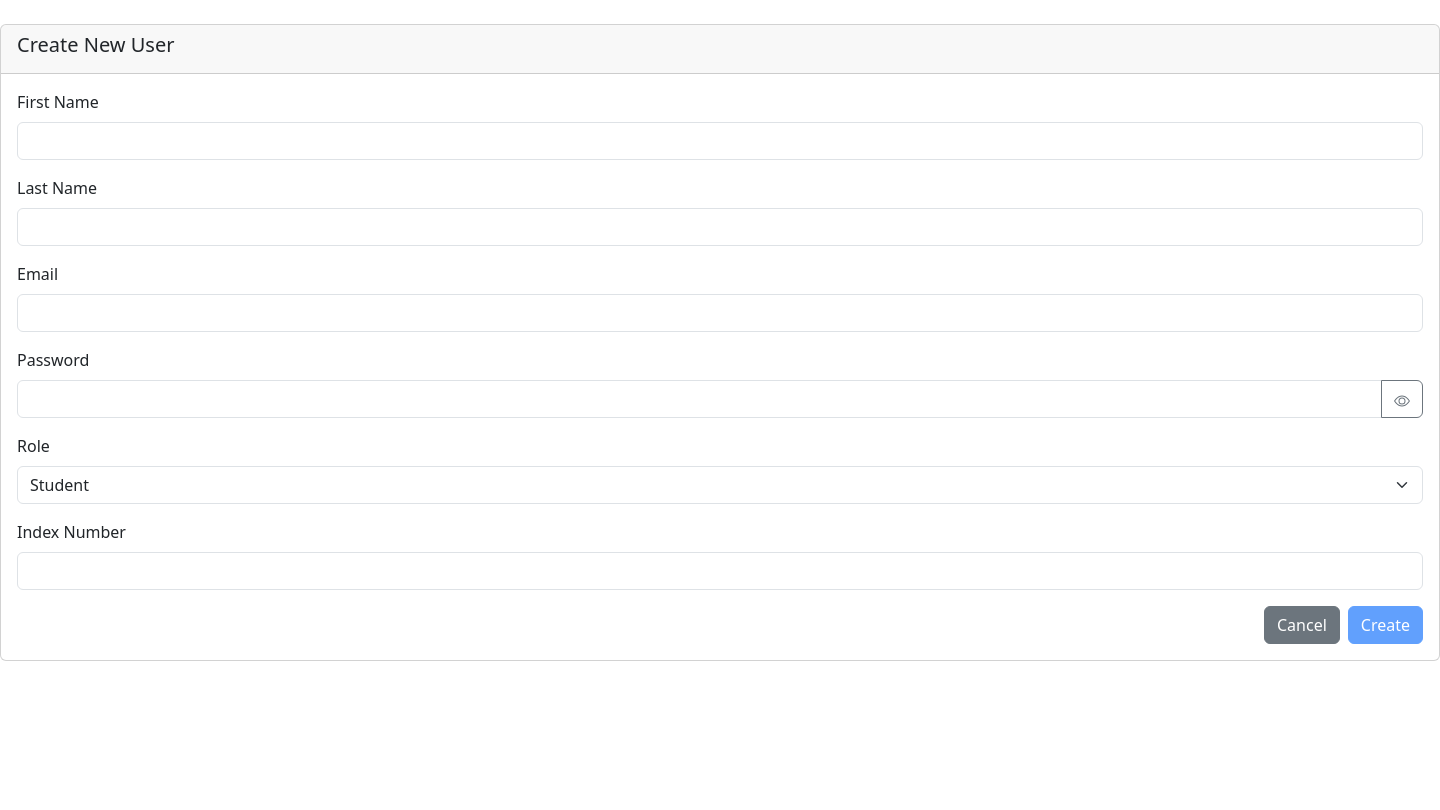
UserCreateForm validation › requires an index number for a student
Click the field labelled "Index Number".
click(720, 571)  # box x1=17 y1=552 x2=1423 y2=590
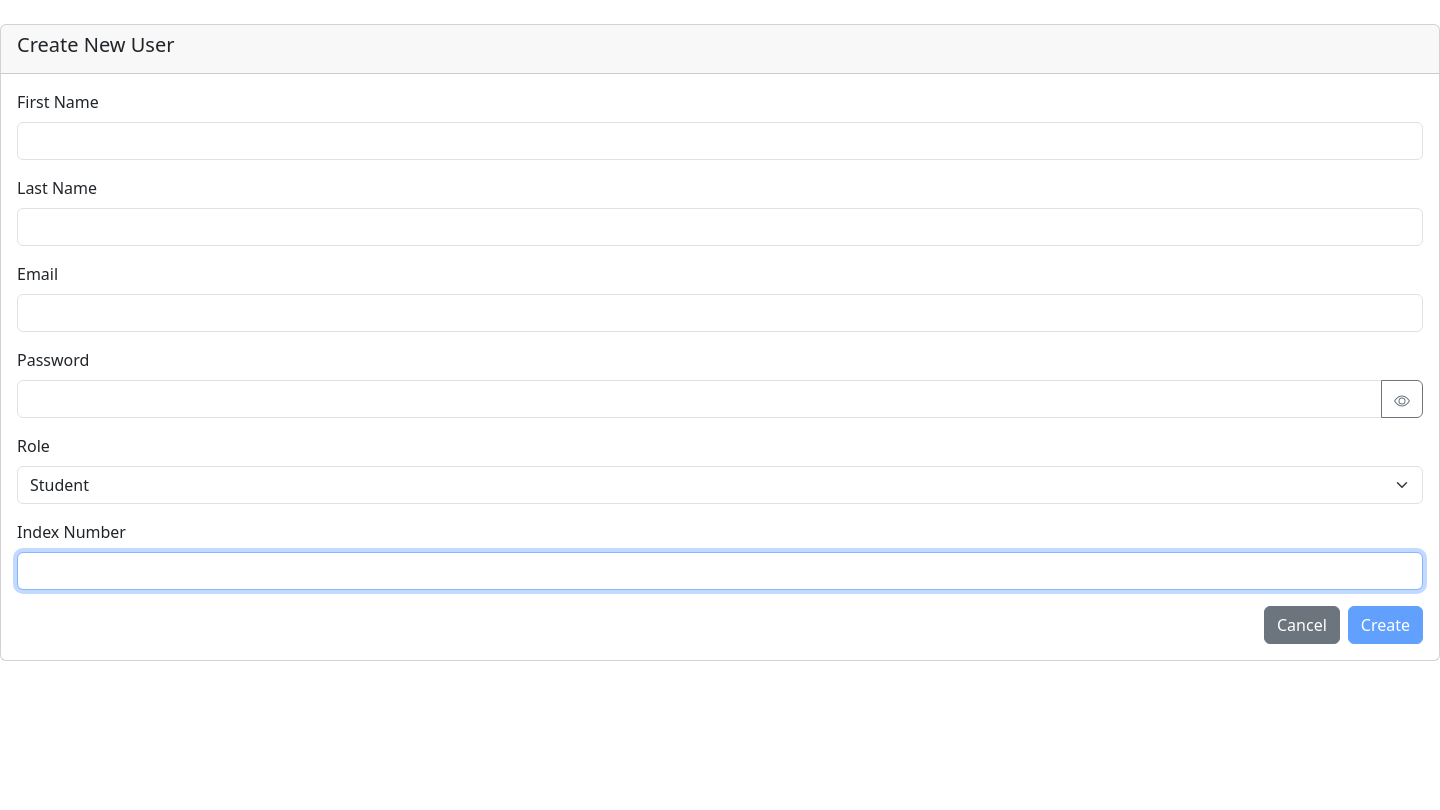
Press Tab
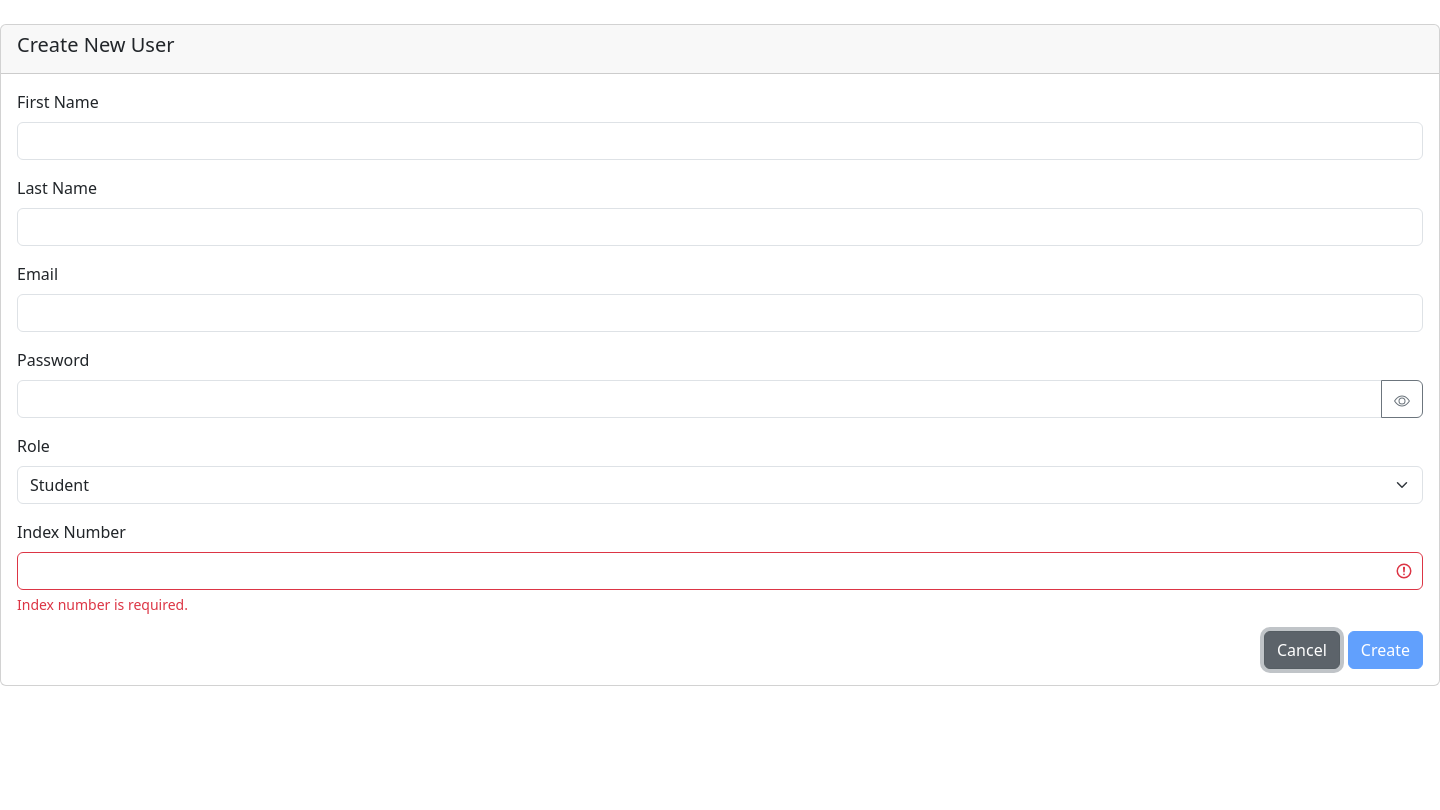
Expected: the text "Index number is required." is shown, x1=17 y1=595 x2=188 y2=614
